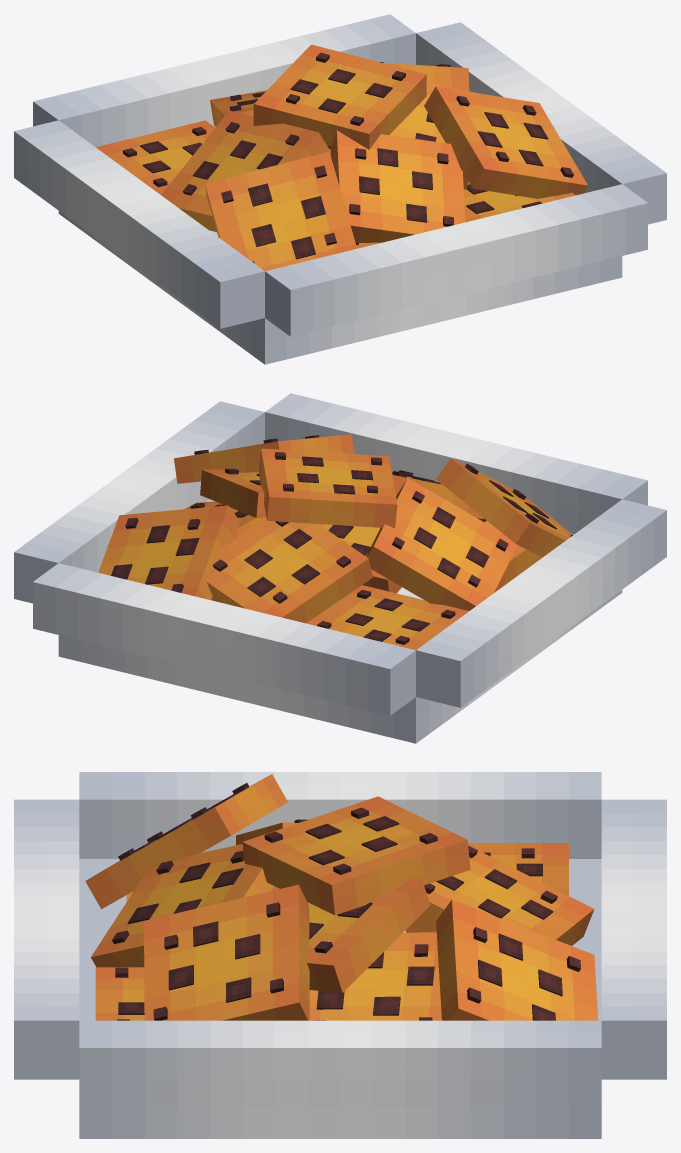
Rendered from plate_with_cookies.glb.
The picture shows the model from 3 angles, top to bottom: view 1: azimuth 30°, elevation 25°; view 2: azimuth 150°, elevation 25°; view 3: azimuth 270°, elevation 25°; orthographic projection. The views are drawn at different scales.
Visible parts, largest first — view 1: plate_2, plate_4, plate_1, plate_3, cookie14_135, cookie12_115, cookie11_105, cookie8_75, plate_0, cookie7_65, cookie3_25, cookie1_5 (+3 smaller); view 2: plate_1, plate_4, plate_2, plate_3, cookie7_65, cookie9_85, plate_0, cookie11_105, cookie13_125, cookie14_135, cookie3_25, cookie12_115 (+4 smaller); view 3: plate_3, plate_4, plate_0, plate_1, plate_2, cookie12_115, cookie11_105, cookie13_125, cookie8_75, cookie10_95, cookie14_135, cookie9_85 (+6 smaller).
Part boxes in pixels (x1,y1,x2,y2): plate_2: (265,184,647,336); plate_4: (14,120,264,328); plate_1: (33,14,415,147); plate_3: (416,22,666,224); cookie14_135: (205,151,356,271); cookie12_115: (424,86,588,198); cookie11_105: (253,44,426,149); cookie8_75: (330,130,465,242); plate_0: (58,211,622,364); cookie7_65: (161,110,329,231); cookie3_25: (96,120,215,194); cookie1_5: (463,181,575,222); plate_1: (33,563,415,715); plate_4: (416,499,666,707); plate_2: (265,393,647,534); plate_3: (14,401,264,603); cookie7_65: (366,478,517,610); cookie9_85: (206,518,372,623); plate_0: (58,499,622,743); cookie11_105: (258,448,397,528); cookie13_125: (98,505,239,599); cookie14_135: (436,458,571,557); cookie3_25: (306,585,468,650); cookie12_115: (174,434,354,483); plate_3: (79,1020,601,1107); plate_4: (79,772,601,858); plate_0: (79,859,601,1138); plate_1: (601,799,666,1079); plate_2: (14,799,79,1079); cookie12_115: (144,884,309,1020); cookie11_105: (242,796,470,915); cookie13_125: (436,899,598,1020); cookie8_75: (91,844,273,967); cookie10_95: (271,877,430,992); cookie14_135: (85,774,287,908); cookie9_85: (410,845,594,945).
Bounding box in the file's own units: 0.625 × 0.2148 × 0.625.
Materials: 1 (1 with a texture image).
